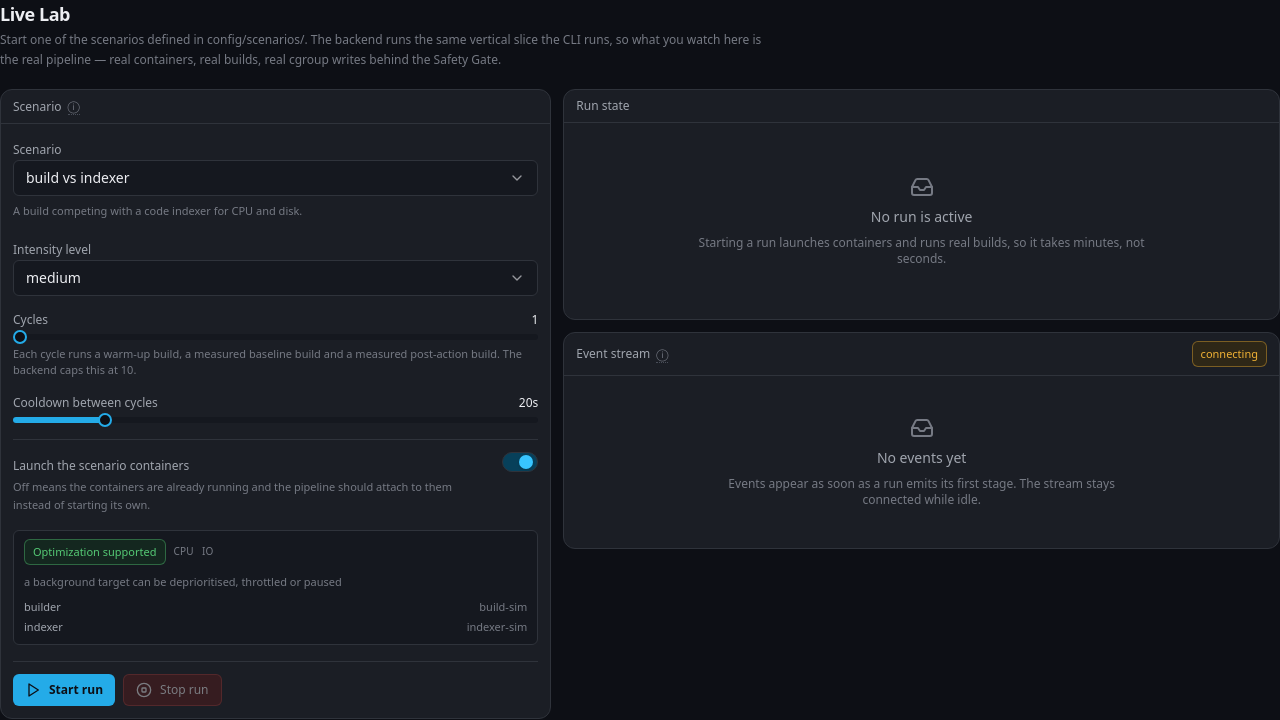
Test case: Live Lab › requires confirmation before it will start a real run
This screenshot has width=1280, height=720.
Expected: the text "A build competing with a code indexer for CPU and disk." is shown, [13,203,302,218]
Click the button "Start run": [64, 690] box [13,674,115,706]
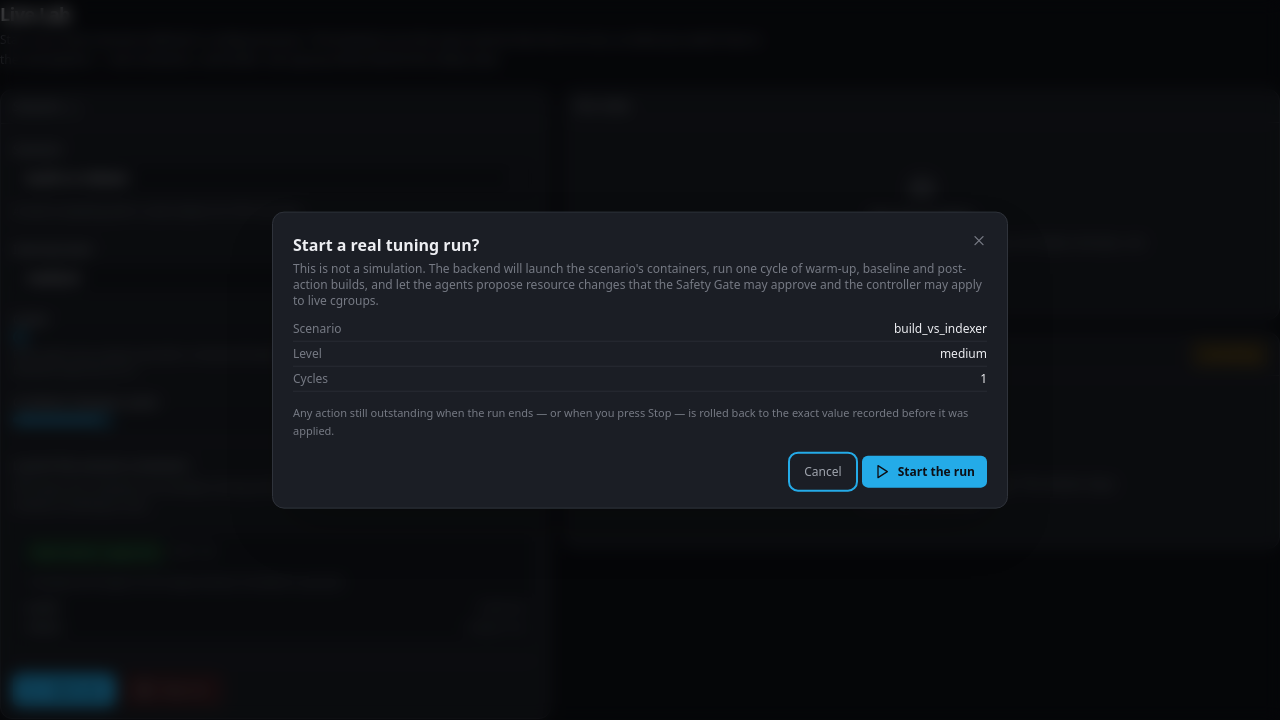
Result: the text "This is not a simulation" is shown at [293,260,733,277]
